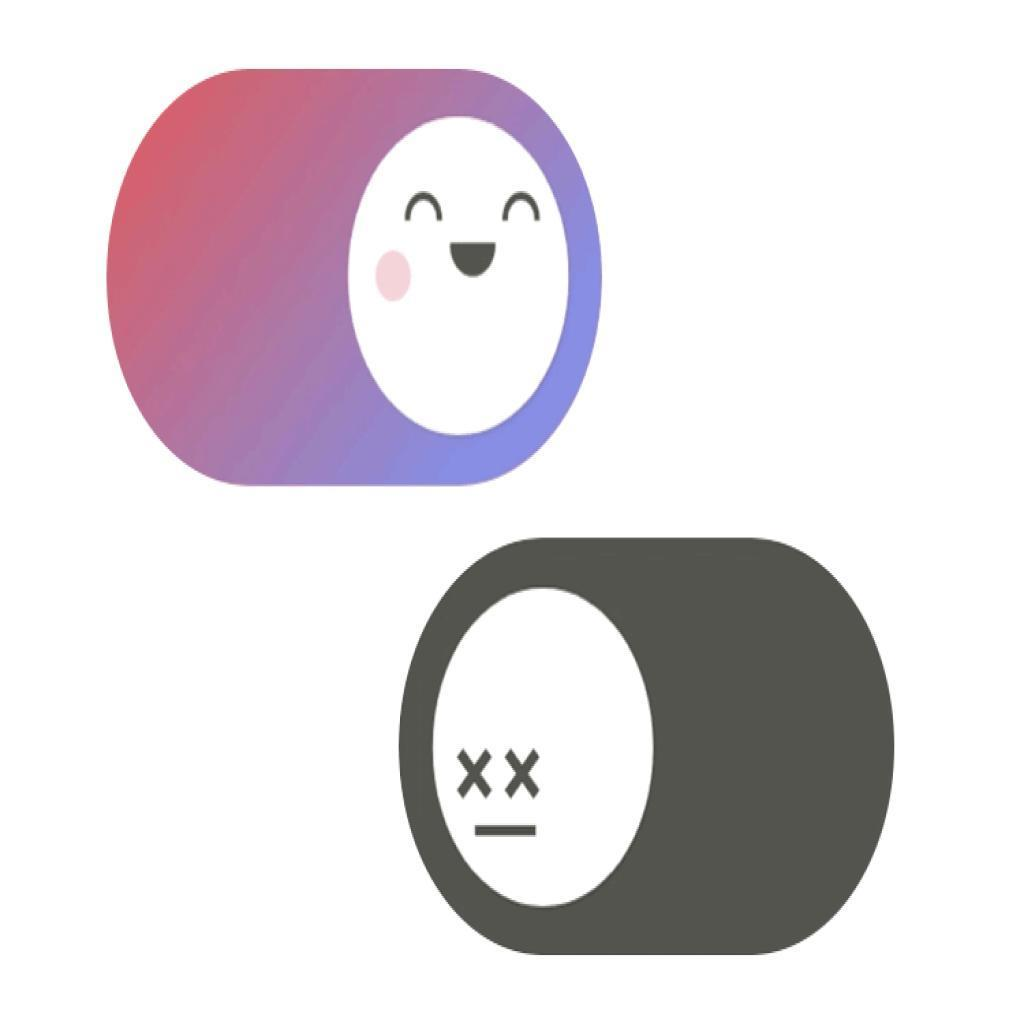switch: (108, 69, 606, 490), (400, 539, 894, 958)
